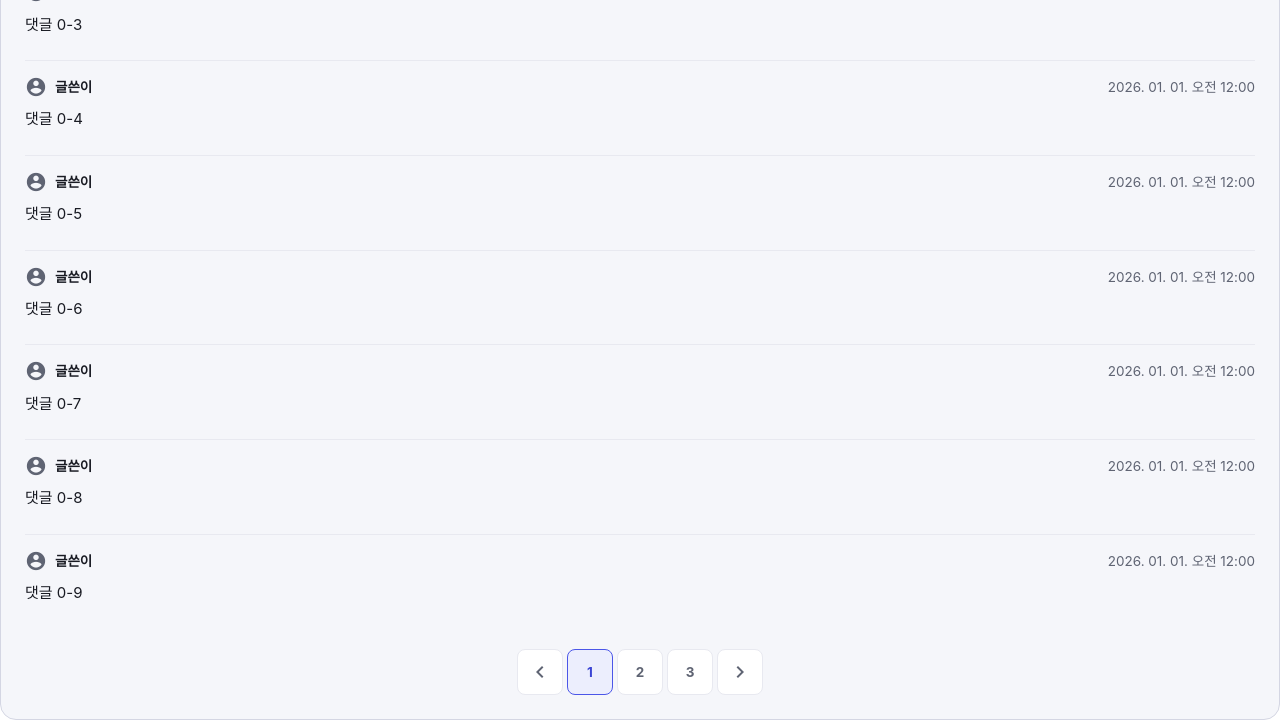
Test: 댓글 페이지는 주소에서 온다 (?cpage= · 설계/05 §9) › 댓글 페이지 버튼을 누르면 주소가 바뀐다 — replace라 히스토리를 쌓지 않는다
(page scrolled)
Click the button "3" at (690, 672), box [667,649,713,695]
(page scrolled)
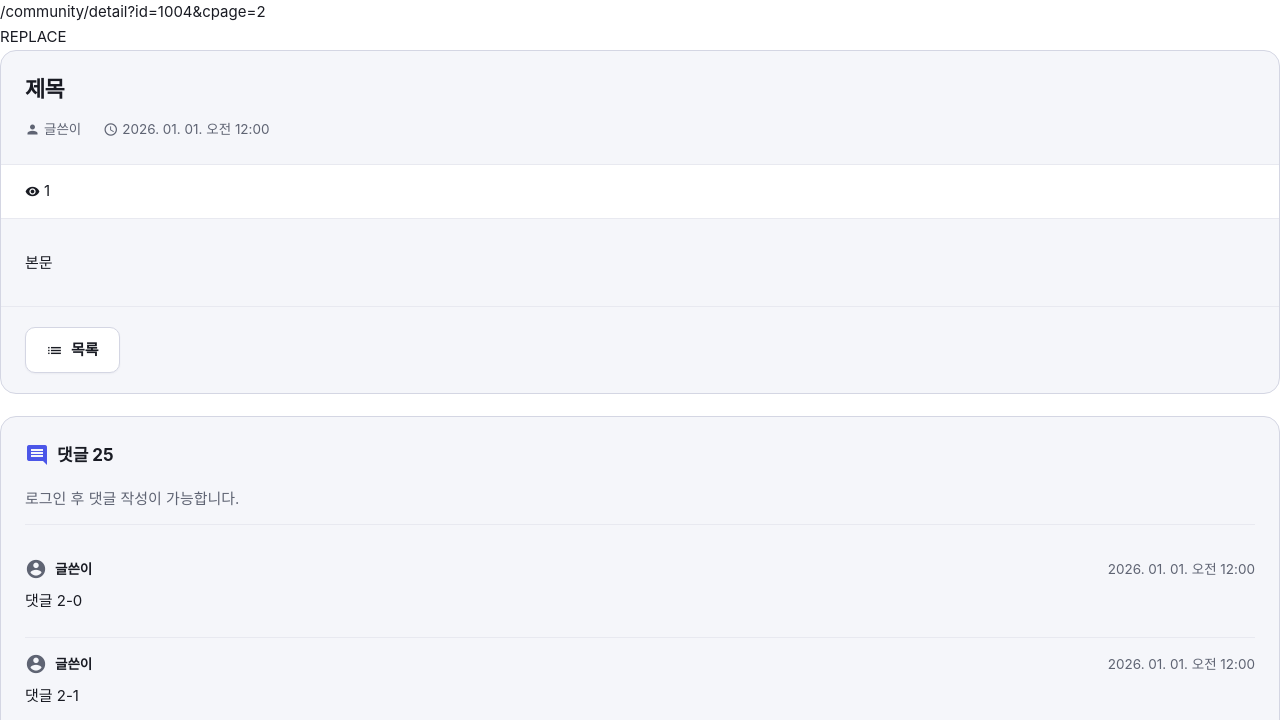
Check: the text with test id "location" shows "cpage=2", box [127,2,266,21]
Check: the text with test id "navtype" reads "REPLACE", box [0,27,66,46]
Check: the text "댓글 2-0" is shown, box [25,591,82,610]
